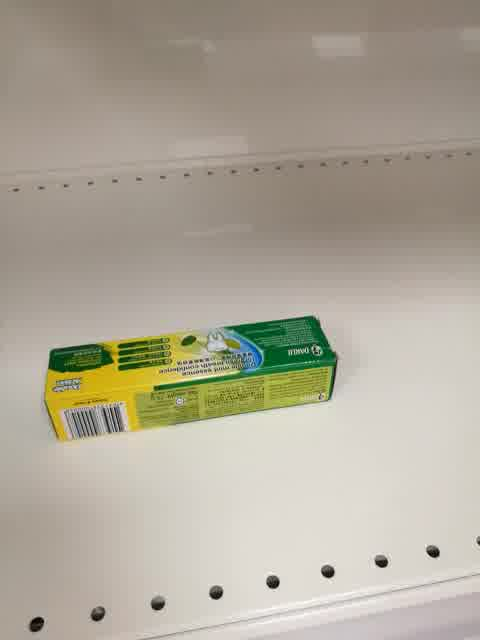toothpaste: (40, 314, 338, 441)
